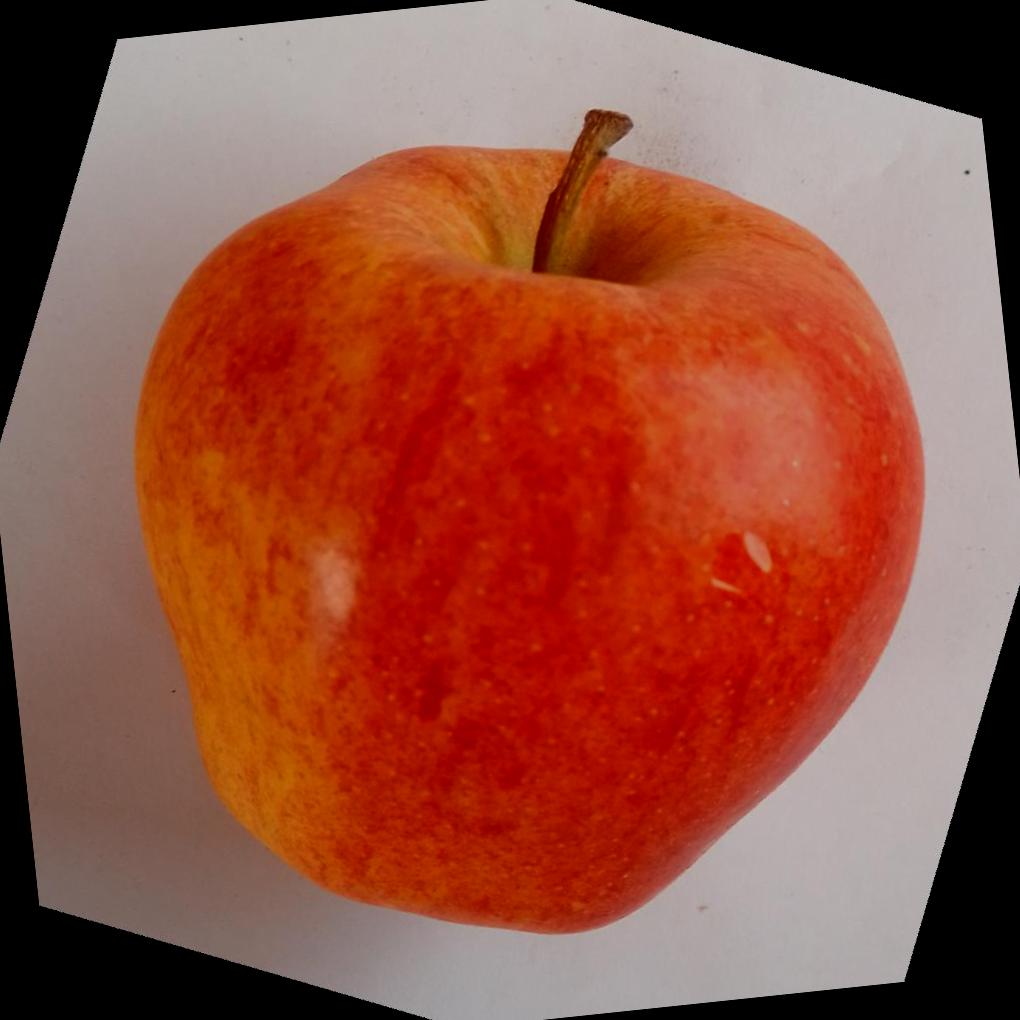FreshGuava: (129, 111, 927, 940)
